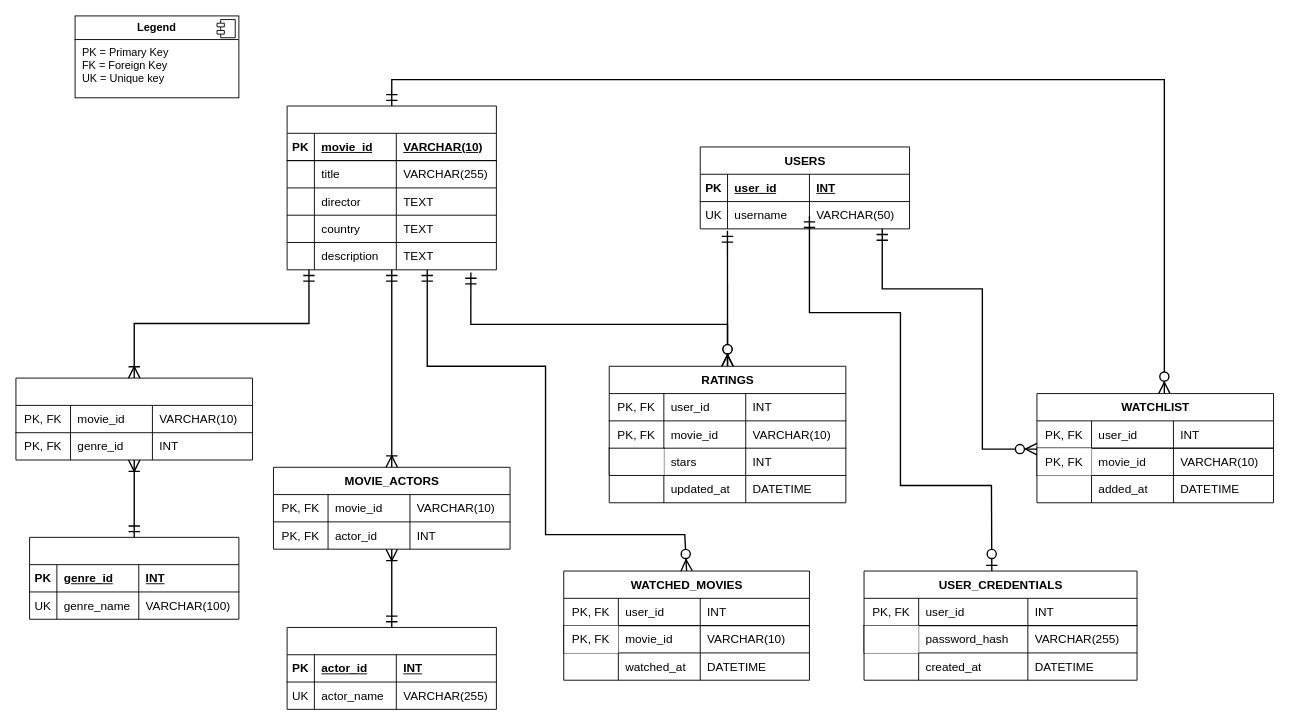
This 1289x725 diagram has some shape labels left out. Here are the shapes that lost their labels. From the top down, the box of each, then its label:
(286, 105, 496, 270): MOVIES
(15, 377, 253, 460): MOVIE_GENRES
(29, 536, 239, 619): GENRES
(286, 627, 496, 709): ACTORS
